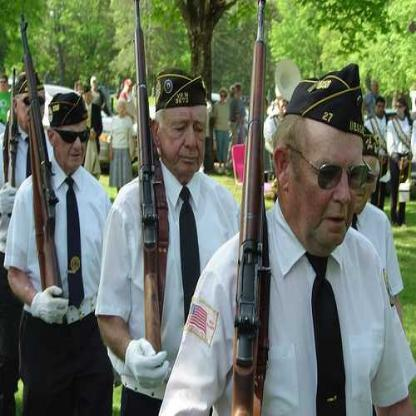rifle: (6, 7, 83, 336), (225, 0, 281, 415), (131, 0, 158, 374)
